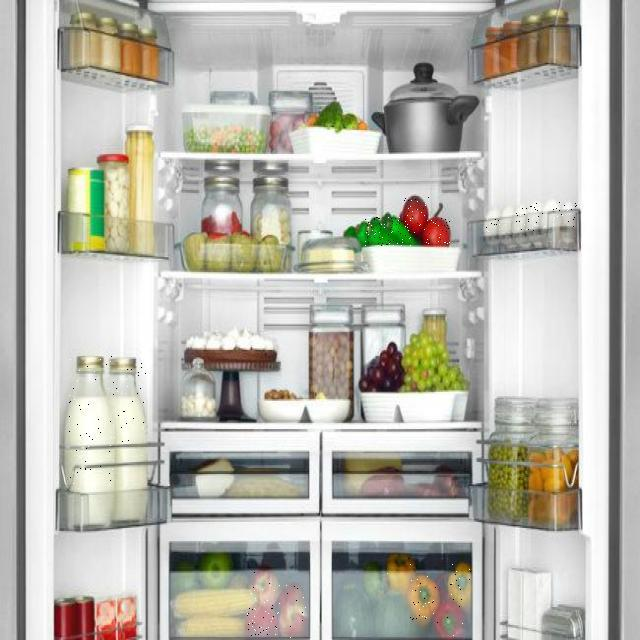apple: (281, 585, 309, 638), (251, 570, 280, 608), (247, 608, 280, 636)
eggs: (544, 199, 561, 228), (484, 208, 501, 237), (528, 204, 543, 234), (501, 205, 515, 235), (561, 202, 577, 227), (514, 205, 527, 231)
green chilies: (365, 217, 413, 246)
milk: (69, 355, 114, 490), (111, 358, 147, 442)
red bell pepper: (434, 601, 465, 636)
tomato: (404, 196, 429, 235), (425, 218, 450, 245)
yellow bell pepper: (408, 576, 440, 622), (387, 556, 415, 591), (448, 564, 471, 605)
